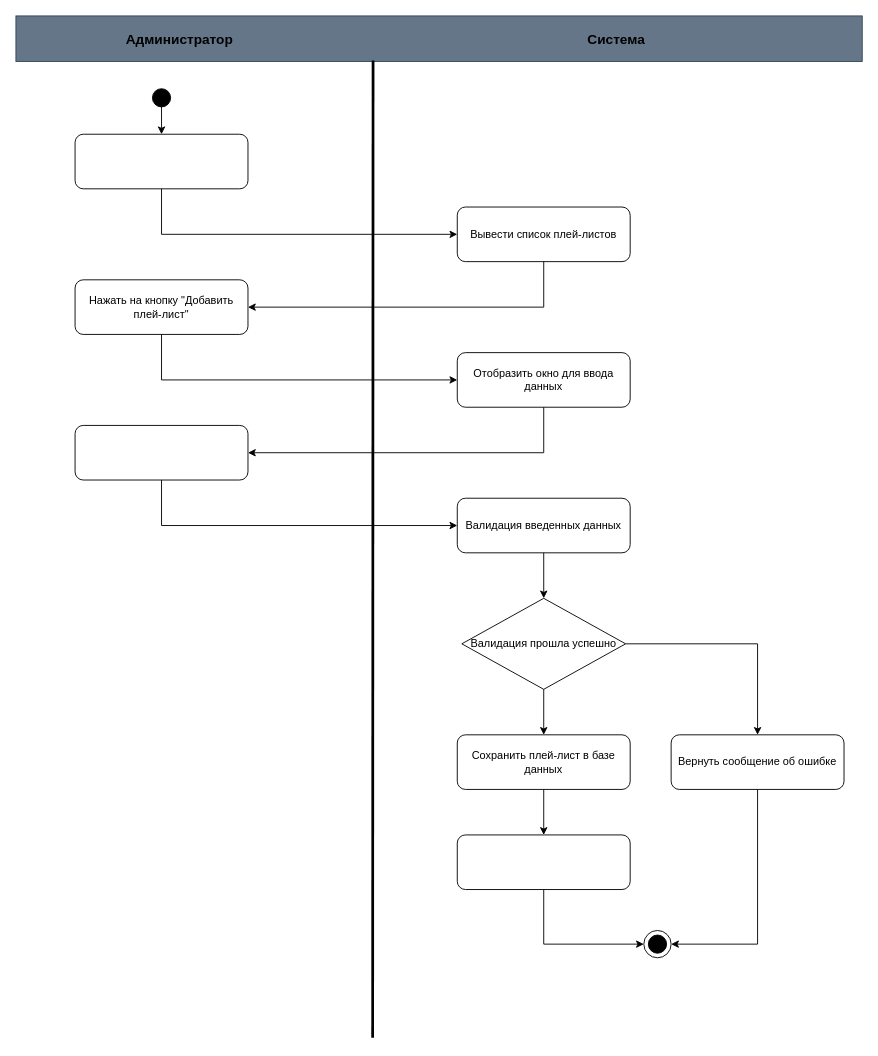
Some shapes in this 878 by 1056 pixel diagram are drawn without their labels. The box of each missing label's shape, as (x1, y1, x2, y2) in pixels:
Ввести данные и нажать кнопку "Отравить": (74, 425, 248, 480)
Вернуть обновленный список плей-листов: (456, 834, 630, 890)
Перейти в окно со списком плей-листов: (74, 133, 248, 189)
